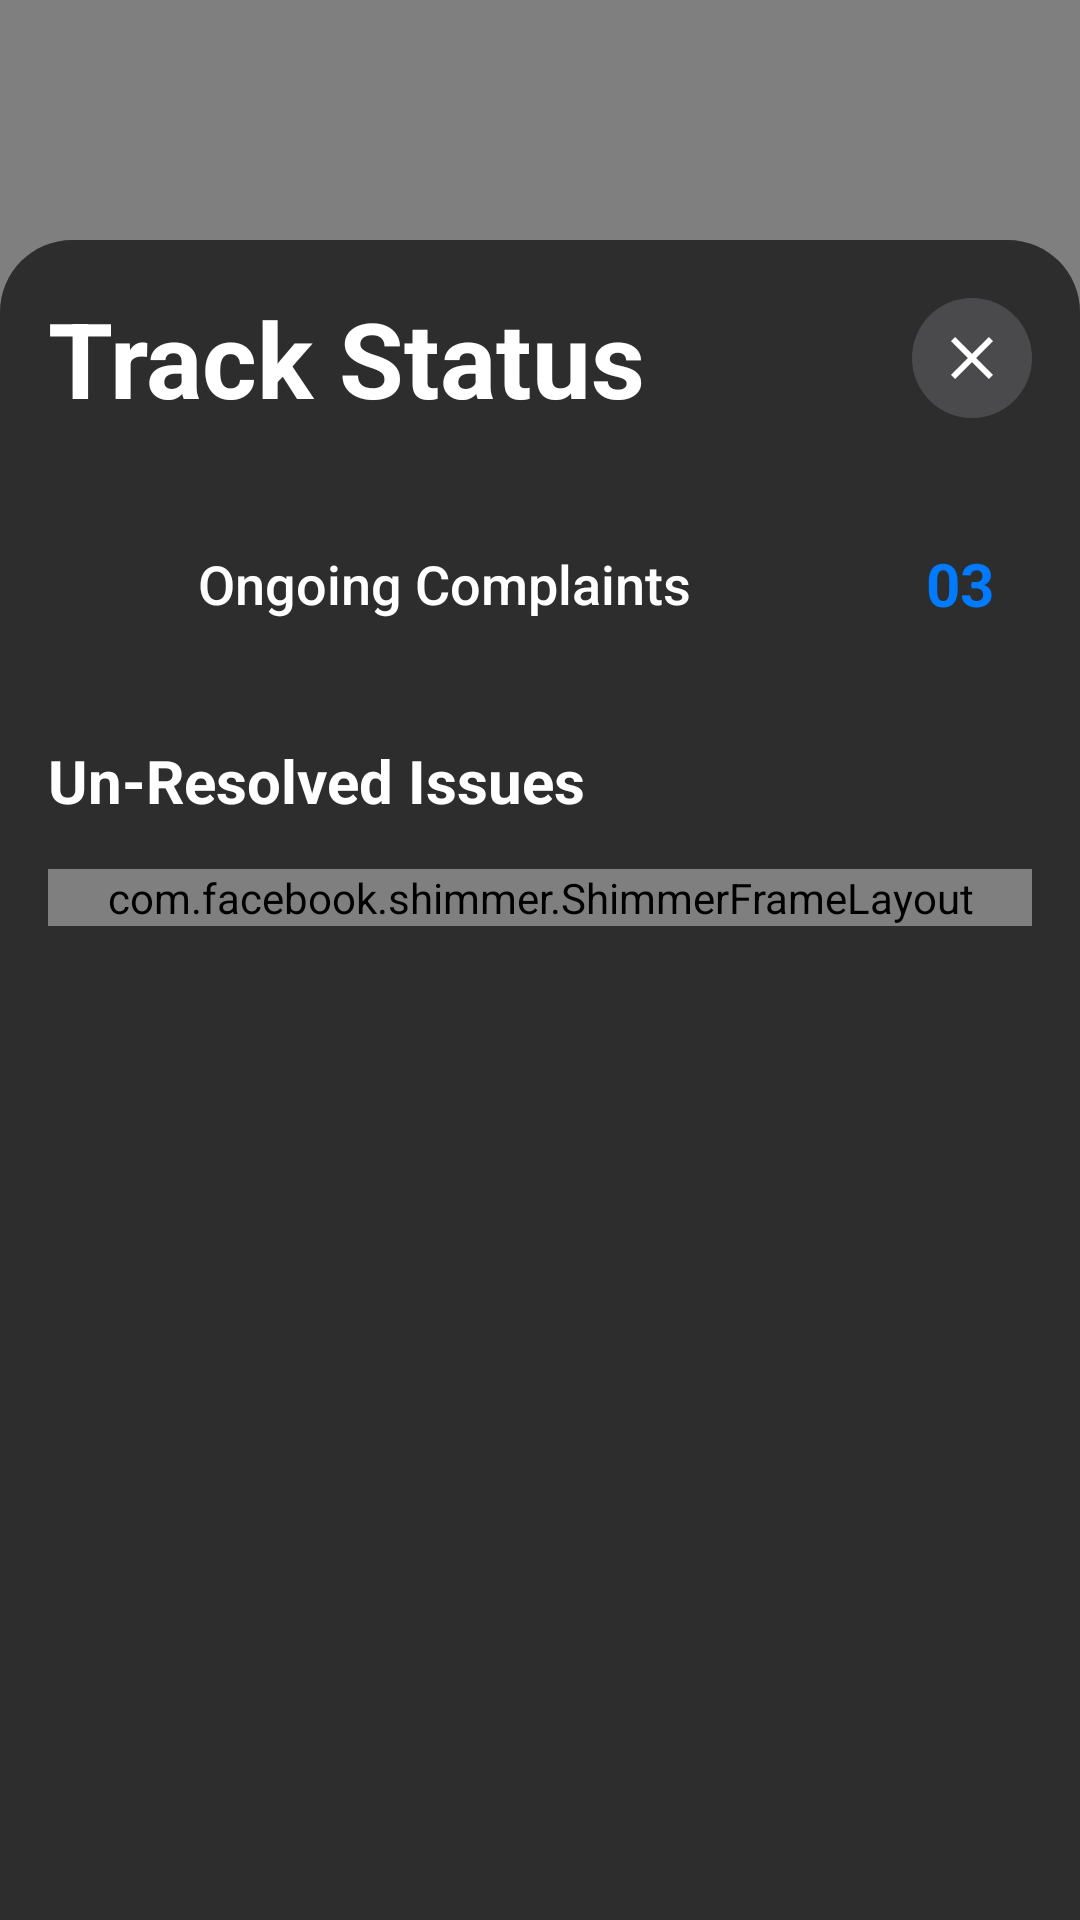

Icon bounding boxes for this 1080 × 1920 phone screenshot, format bbox=[x1, y1, x2, y2]:
Close: bbox=[912, 298, 1032, 418]
